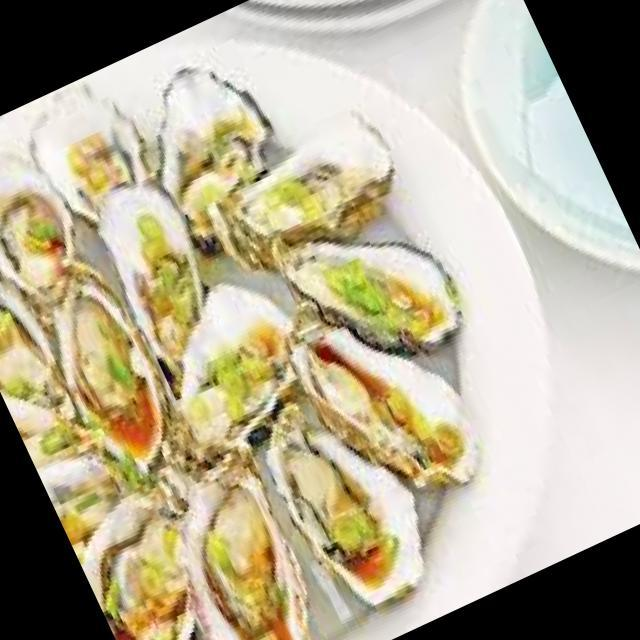Oyster-Open: (261, 310, 509, 515), (177, 104, 421, 311), (259, 394, 460, 625), (257, 194, 487, 381), (114, 61, 302, 260), (82, 169, 240, 403), (31, 277, 201, 487), (165, 281, 304, 482), (8, 64, 180, 223), (179, 459, 307, 640), (85, 475, 195, 640), (0, 436, 159, 549), (0, 173, 101, 317)
